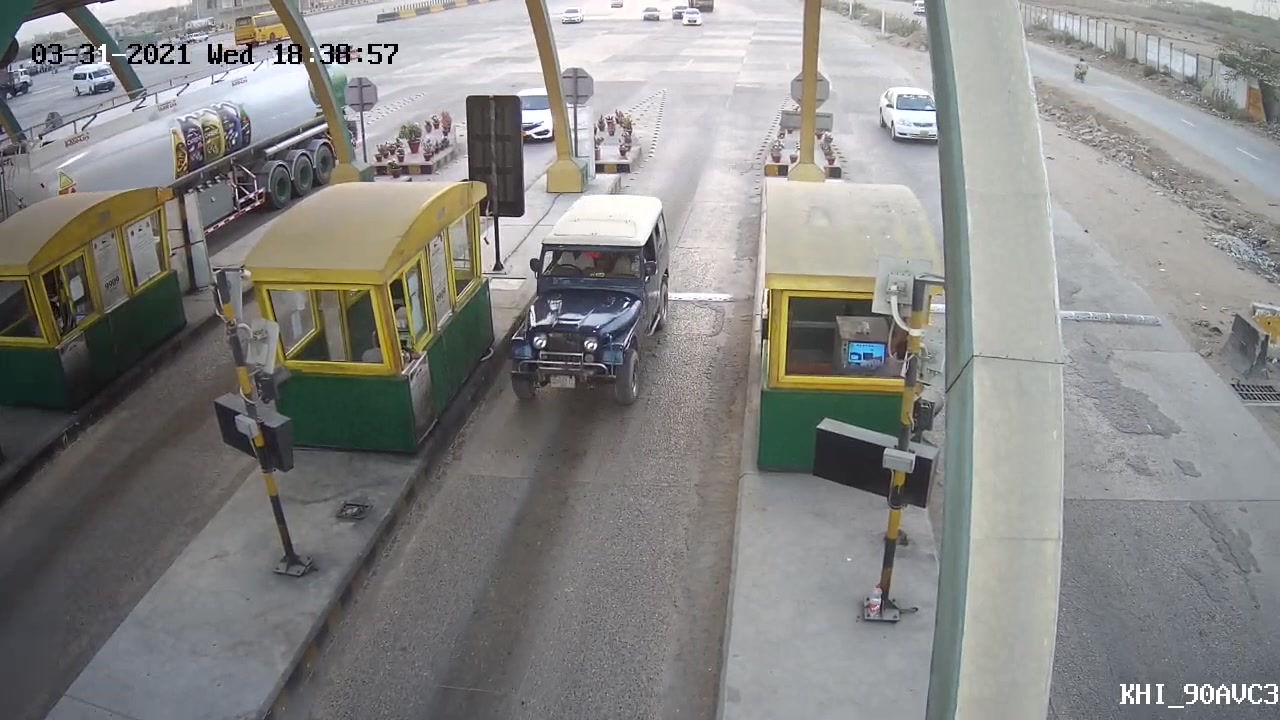F1: (508, 191, 683, 413)
